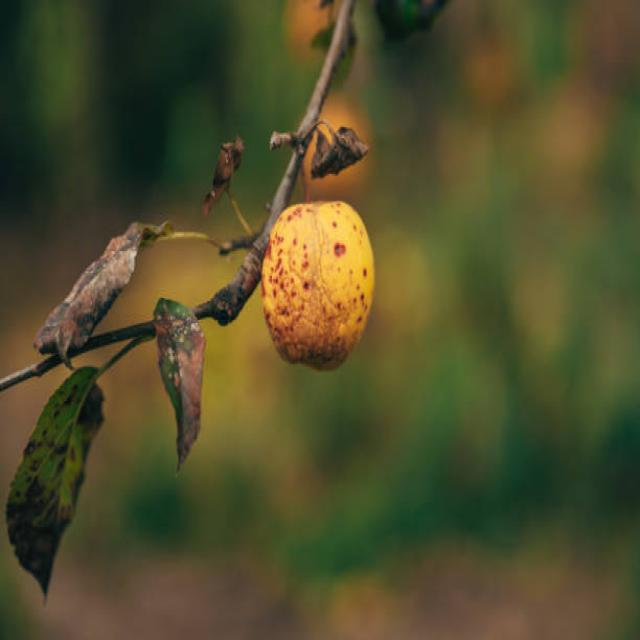overripe: (257, 195, 376, 370)
